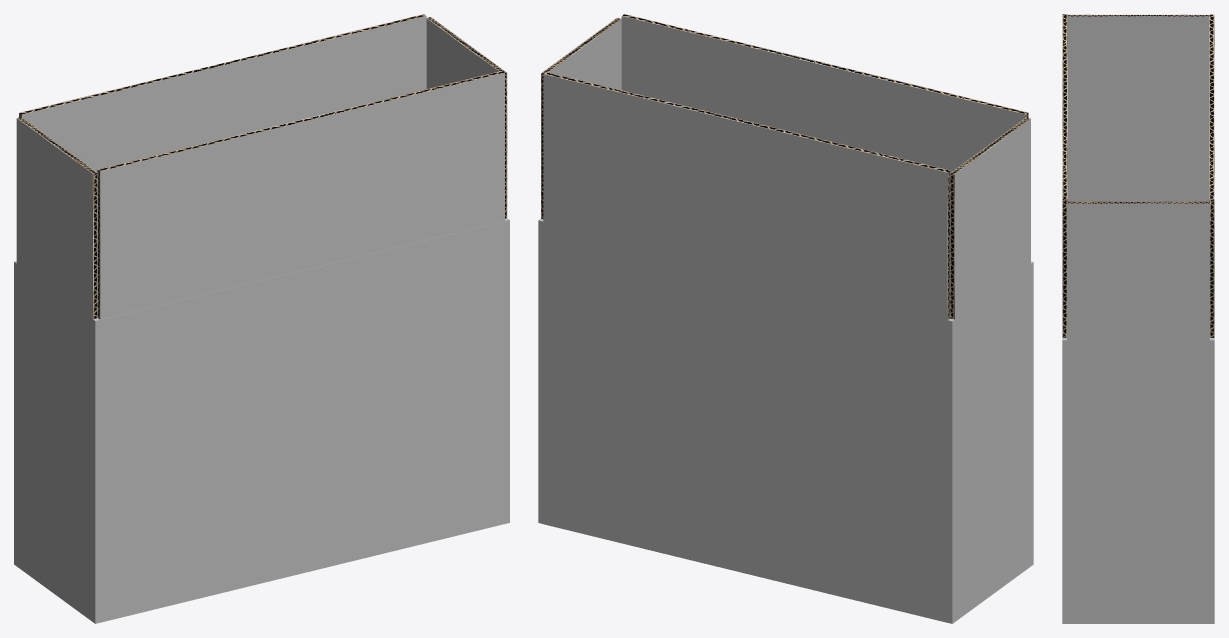
3 views of the same model, side by side, from view 1: azimuth 30°, elevation 25°; view 2: azimuth 150°, elevation 25°; view 3: azimuth 270°, elevation 25° (orthographic). The views are drawn at different scales.
Parts seen in each view (by area): view 1: side 3.001, top side 2.001, top side 1.001, side 2.001, top side 3.001, top side 4.001, side 4.001; view 2: side 1.001, top side 1.001, top side 2.001, side 2.001, top side 3.001, top side 4.001, side 4.001; view 3: side 4.001, top side 3.001, top side 4.001, side 2.001, top side 2.001, top side 1.001.
Boxes of the visible parts, x1,y1,x2,y2 form: side 3.001: (98, 221, 504, 622); top side 2.001: (97, 71, 504, 319); top side 1.001: (19, 14, 426, 171); side 2.001: (14, 261, 100, 623); top side 3.001: (16, 117, 97, 318); top side 4.001: (426, 17, 507, 218); side 4.001: (505, 218, 509, 523); side 1.001: (543, 221, 947, 622); top side 1.001: (543, 72, 950, 320); top side 2.001: (621, 14, 1028, 172); side 2.001: (947, 261, 1033, 623); top side 3.001: (950, 117, 1030, 319); top side 4.001: (541, 17, 621, 218); side 4.001: (538, 218, 543, 523); side 4.001: (1062, 338, 1214, 623); top side 3.001: (1067, 14, 1209, 155); top side 4.001: (1067, 201, 1209, 340); side 2.001: (1067, 155, 1209, 201); top side 2.001: (1062, 14, 1067, 337); top side 1.001: (1209, 14, 1214, 337).
Size of the model in its own units: 286 by 298 by 97.24.
